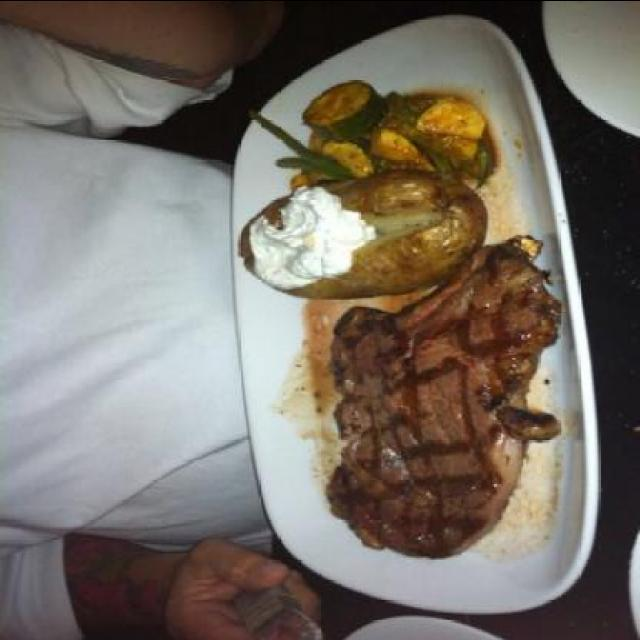Steak: (275, 280, 573, 592)
